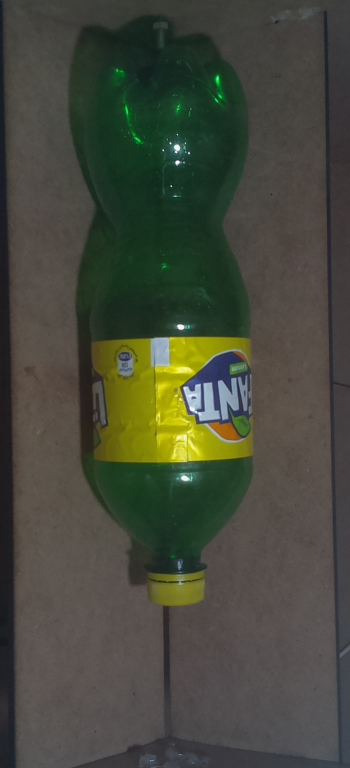Bouteille_1L: (66, 40, 265, 611)
